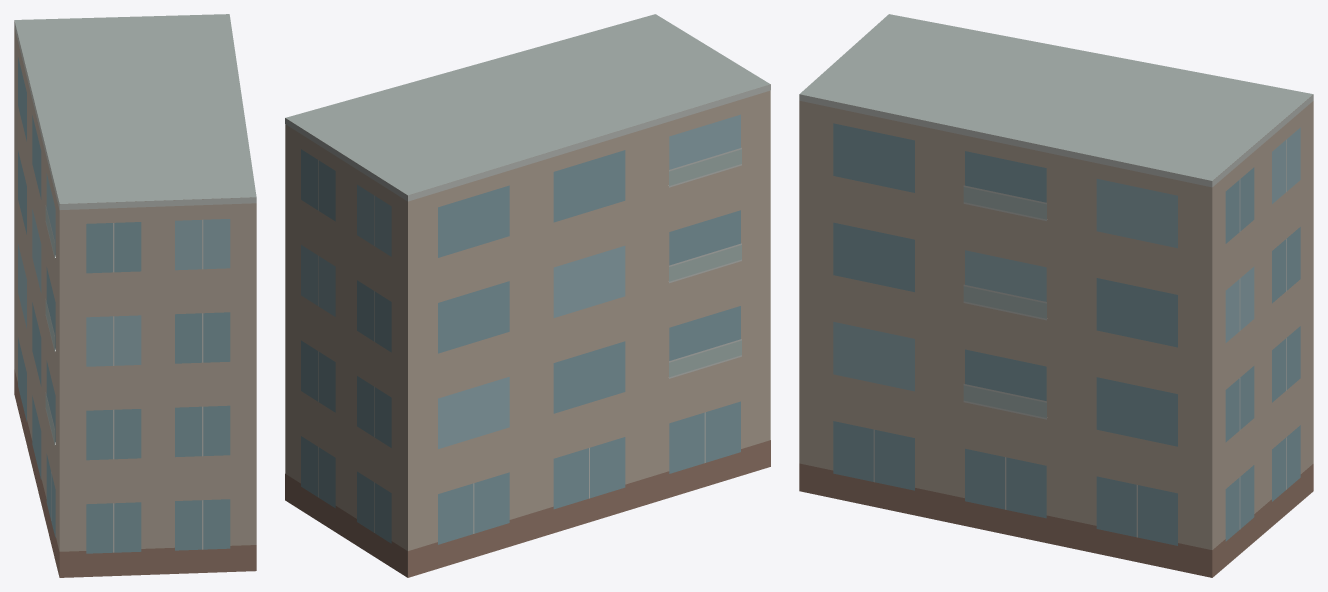
File: survey-upis-32505686.glb
The picture shows the model from 3 angles, left to right: view 1: azimuth 30°, elevation 25°; view 2: azimuth 150°, elevation 25°; view 3: azimuth 270°, elevation 25°; orthographic projection. The views are drawn at different scales.
Visible parts, largest first — view 1: survey-upis-32505686.tmp; view 2: survey-upis-32505686.tmp; view 3: survey-upis-32505686.tmp.
Boxes of the visible parts, bbox=[...] form: survey-upis-32505686.tmp: bbox=[14, 14, 256, 577]; survey-upis-32505686.tmp: bbox=[285, 14, 770, 577]; survey-upis-32505686.tmp: bbox=[799, 14, 1313, 577].
Bounding box in the file's own units: 13.54 × 15 × 17.62.
